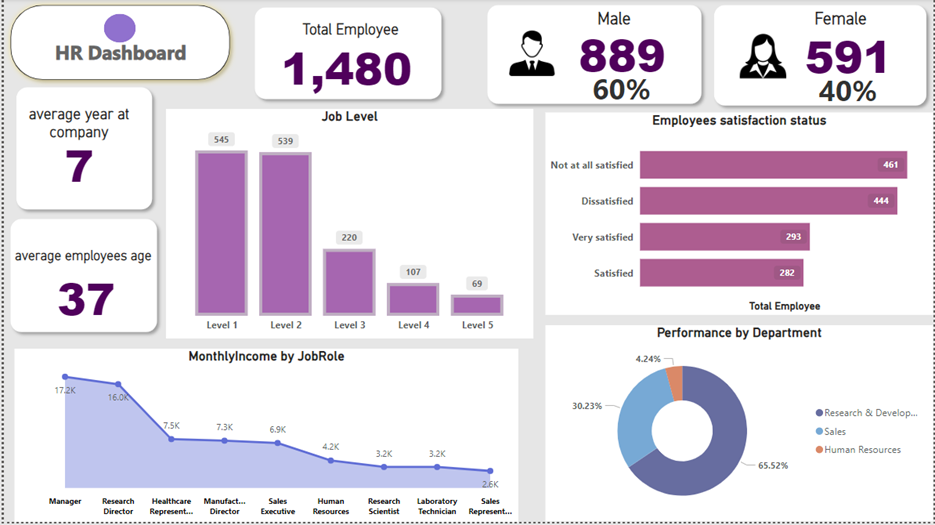

The page's visual inventory and layout, read from the dashboard file:
{"tool":"powerbi","page":{"name":"HR","canvas":[1280,720],"ordinal":0},"visuals":[{"type":"group","id":"g1","title":"Group 1","box":[0,0,320.3,121],"z":0},{"type":"shape","box":[0,0,320.3,121],"z":0,"group":"g1"},{"type":"shape","box":[656.4,0,312.9,154],"z":0,"group":"g3"},{"type":"shape","box":[969.4,0,310.5,156.5],"z":0,"group":"g4"},{"type":"shape","box":[336.2,2.5,275,144.2],"z":0,"group":"g6"},{"type":"shape","box":[7.5,112.5,205,186.2],"z":0,"group":"g2"},{"type":"shape","box":[0,295,219.8,173.7],"z":0,"group":"g5"},{"type":"textbox","box":[794.4,8.7,92.4,38.2],"z":1000,"group":"g3"},{"type":"textbox","box":[1106.3,8.9,91.6,38.8],"z":1000,"group":"g4"},{"type":"card","fields":{"Values":["All measures.Total Employee"]},"box":[375,46.3,192.5,90],"z":1000,"group":"g6"},{"type":"textbox","box":[41.4,50.9,237.4,50.9],"z":1000,"group":"g1"},{"type":"group","id":"g2","title":"Group 2","box":[7.5,112.5,205,186.2],"z":1000},{"type":"card","fields":{"Values":["All measures.Avg year_at_company"]},"box":[43.2,181.6,119.3,87],"z":1000,"group":"g2"},{"type":"card","fields":{"Values":["All measures.Avg Age"]},"box":[44.8,366.4,134.6,88.4],"z":1000,"group":"g5"},{"type":"group","id":"g3","title":"Group 4","box":[656.4,0,312.9,154],"z":2000},{"type":"shape","box":[138,20.6,44.2,39.9],"z":2000,"group":"g1"},{"type":"textbox","box":[388.7,24.1,178.5,44.7],"z":2000,"group":"g6"},{"type":"image","box":[674.9,38.2,105.4,73.2],"z":2000,"group":"g3"},{"type":"textbox","box":[14.6,139.7,177.3,59],"z":2000,"group":"g2"},{"type":"textbox","box":[5,337.5,208.8,57.5],"z":2000,"group":"g5"},{"type":"image","box":[998.5,42.2,94.9,74.4],"z":2003,"group":"g4"},{"type":"group","id":"g4","title":"Group 5","box":[969.4,0,310.5,156.5],"z":3000},{"type":"card","fields":{"Values":["All measures.Male"]},"box":[780.1,40,140,67.1],"z":3000,"group":"g3"},{"type":"card","fields":{"Values":["All measures.Female"]},"box":[1093.4,43.3,138,65.5],"z":3000,"group":"g4"},{"type":"card","fields":{"Values":["All measures.% Male"]},"box":[804.2,96.1,92.4,55.7],"z":4000,"group":"g3"},{"type":"card","fields":{"Values":["All measures.% Female"]},"box":[1116,97.7,91.6,56.6],"z":4000,"group":"g4"},{"type":"columnChart","title":"Job Level","fields":{"Category":["Dataset.JobLevel status"],"Y":["All measures.Total Employee"]},"box":[222.5,152.5,506.2,316.2],"z":4000},{"type":"barChart","title":"Employees satisfaction status","fields":{"Category":["Dataset.satisfication status"],"Y":["All measures.Total Employee"]},"box":[745,156.7,523.3,278.3],"z":5000},{"type":"areaChart","title":"MonthlyIncome by JobRole","fields":{"Category":["Dataset.JobRole"],"Y":["Avg(Dataset.MonthlyIncome)"]},"box":[15,481.7,693.3,226.7],"z":6000},{"type":"donutChart","title":"Performance by Department","fields":{"Y":["Sum(Dataset.PerformanceRating)"],"Category":["Dataset.Department"]},"box":[745,450,523.3,258.3],"z":7000},{"type":"group","id":"g5","title":"Group 3","box":[0,295,219.8,173.8],"z":8000},{"type":"group","id":"g6","title":"Group 6","box":[336.2,2.5,275,143.8],"z":9000}]}

Visuals, with their boxes in screenshot pixels (x1, y1, x2, y2), scaled from the page's 1280x720 canvas onto the 935x525 screenshot:
"Group 1" group: <box>0,0,234,88</box>
shape: <box>0,0,234,88</box>
shape: <box>479,0,708,112</box>
shape: <box>708,0,934,114</box>
shape: <box>246,2,446,107</box>
shape: <box>5,82,155,218</box>
shape: <box>0,215,161,342</box>
textbox: <box>580,6,648,34</box>
textbox: <box>808,6,875,35</box>
card - All measures.Total Employee: <box>274,34,415,99</box>
textbox: <box>30,37,204,74</box>
"Group 2" group: <box>5,82,155,218</box>
card - All measures.Avg year_at_company: <box>32,132,119,196</box>
card - All measures.Avg Age: <box>33,267,131,332</box>
"Group 4" group: <box>479,0,708,112</box>
shape: <box>101,15,133,44</box>
textbox: <box>284,18,414,50</box>
image: <box>493,28,570,81</box>
textbox: <box>11,102,140,145</box>
textbox: <box>4,246,156,288</box>
image: <box>729,31,799,85</box>
"Group 5" group: <box>708,0,934,114</box>
card - All measures.Male: <box>570,29,672,78</box>
card - All measures.Female: <box>799,32,899,79</box>
card - All measures.% Male: <box>587,70,655,111</box>
card - All measures.% Female: <box>815,71,882,113</box>
"Job Level" columnChart: <box>163,111,532,342</box>
"Employees satisfaction status" barChart: <box>544,114,926,317</box>
"MonthlyIncome by JobRole" areaChart: <box>11,351,517,517</box>
"Performance by Department" donutChart: <box>544,328,926,516</box>
"Group 3" group: <box>0,215,161,342</box>
"Group 6" group: <box>246,2,446,107</box>
